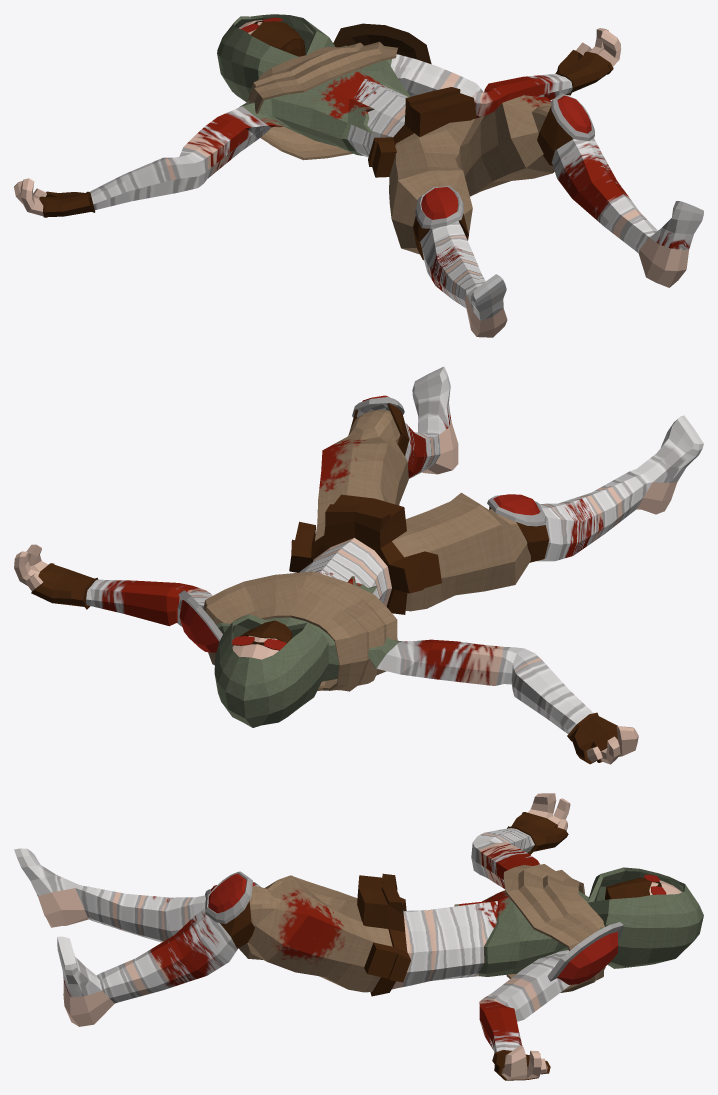
File: Cadavre 3.fbx
3 renders of one model, top to bottom at view 1: azimuth 30°, elevation 25°; view 2: azimuth 150°, elevation 25°; view 3: azimuth 270°, elevation 25°, orthographic. The views are drawn at different scales.
Visible parts, largest first — view 1: Cube; view 2: Cube; view 3: Cube.
Part boxes in pixels (box(x1,y1,x2,y2)): Cube: box(14, 14, 703, 337); Cube: box(14, 366, 703, 764); Cube: box(14, 793, 703, 1080).
Bounding box in the file's own units: 305 × 70.73 × 311.
